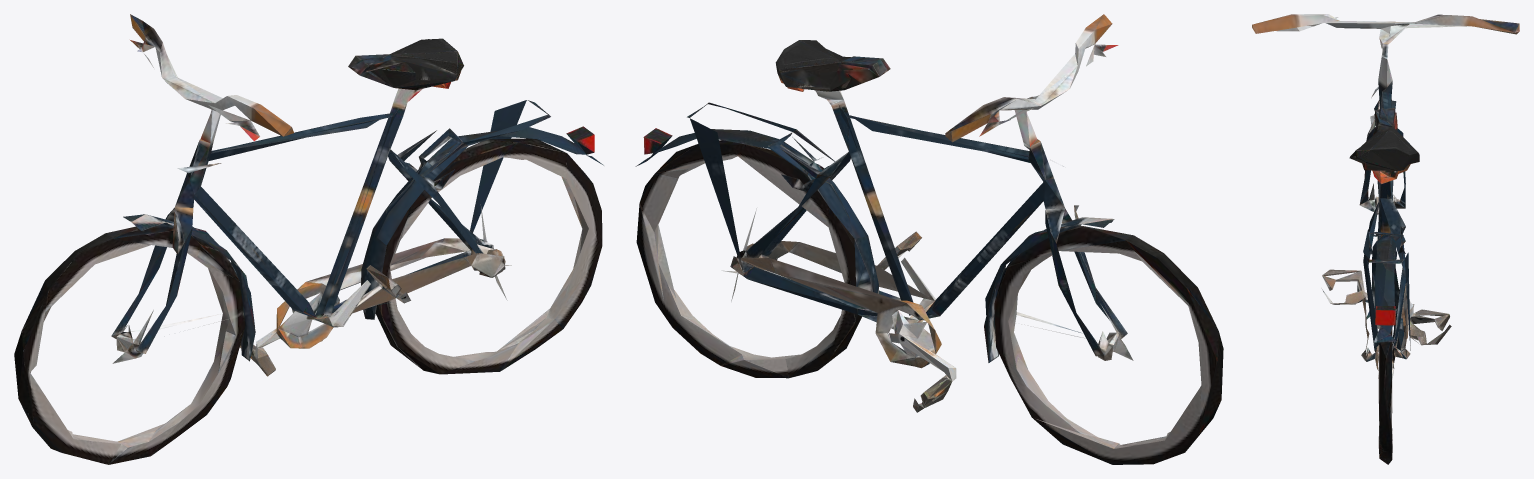
Rendered from bicycle.glb.
The picture shows the model from 3 angles, left to right: view 1: azimuth 30°, elevation 25°; view 2: azimuth 150°, elevation 25°; view 3: azimuth 270°, elevation 25°; orthographic projection. The views are drawn at different scales.
Size of the model in its own units: 1.89 by 1.16 by 0.8827.
1 material, 1 textured.
